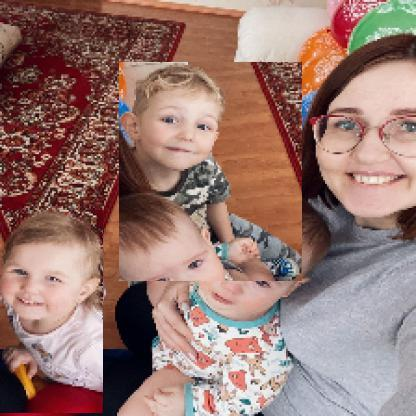child: (148, 194, 334, 415), (120, 63, 304, 284), (1, 211, 105, 415)
